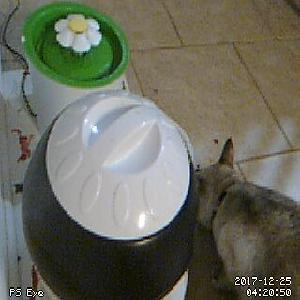cat: (191, 134, 300, 300)
fountain: (22, 2, 129, 89)
